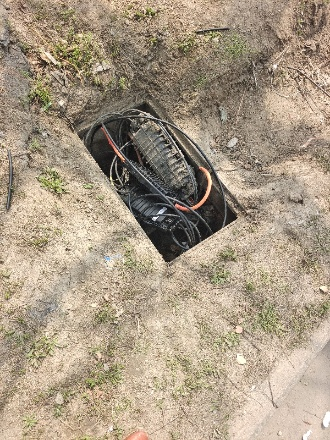lose: (67, 95, 248, 266)
